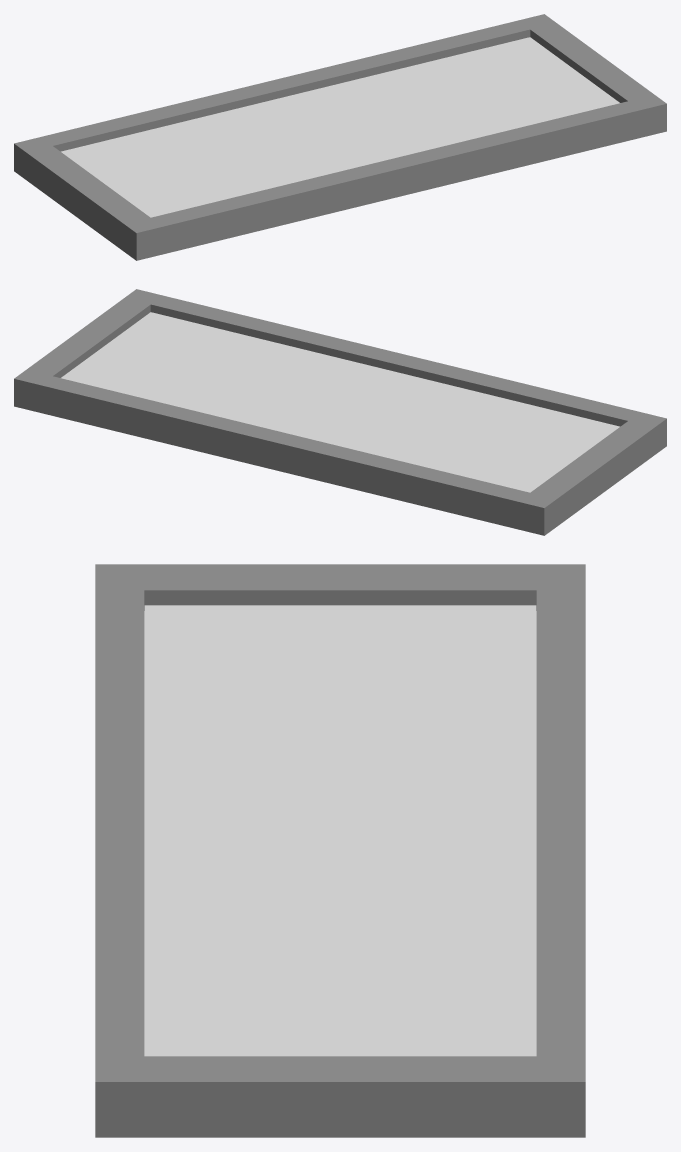
The model's file is Class_Light.fbx.
The picture shows the model from 3 angles, top to bottom: view 1: azimuth 30°, elevation 25°; view 2: azimuth 150°, elevation 25°; view 3: azimuth 270°, elevation 25°; orthographic projection. The views are drawn at different scales.
Visible parts, largest first — view 1: Cube.001, Cube; view 2: Cube.001, Cube; view 3: Cube.001, Cube.
Boxes of the visible parts, x1,y1,x2,y2 form: Cube.001: [61, 37, 619, 217]; Cube: [14, 14, 666, 260]; Cube.001: [61, 312, 619, 492]; Cube: [14, 289, 666, 535]; Cube.001: [144, 605, 536, 1056]; Cube: [95, 564, 585, 1137].
Size of the model in its own units: 100 by 5 by 40.
